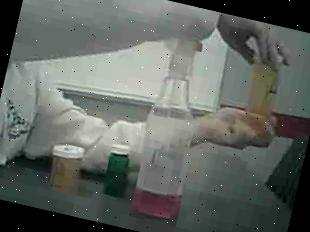Bottle A: (239, 46, 294, 132)
Bottle B: (40, 135, 90, 200)
Bottle C: (99, 139, 133, 201)
hazard: (120, 28, 231, 230)
